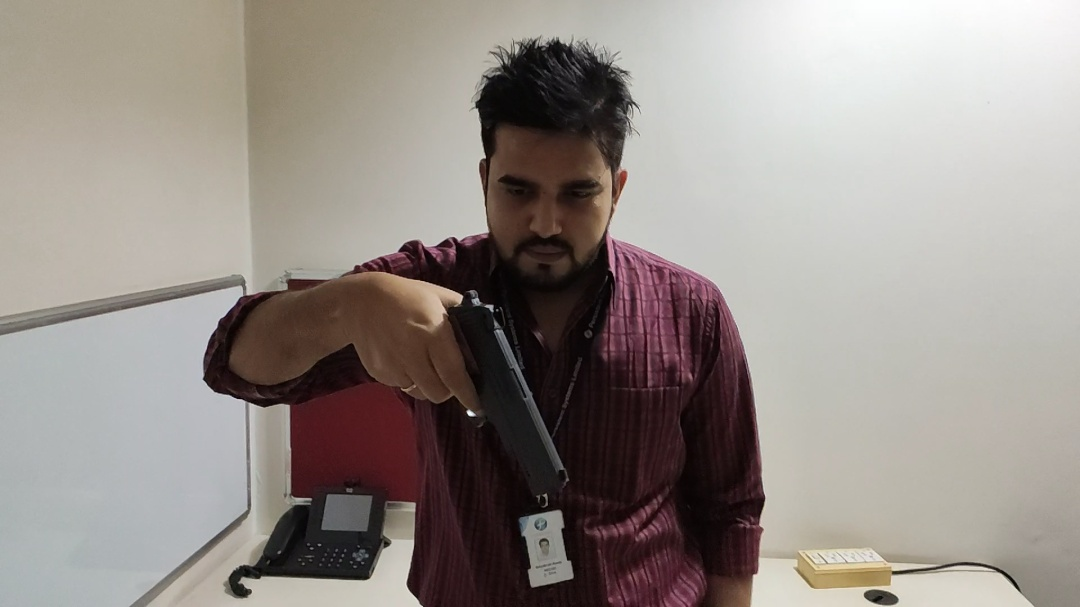gun: (379, 232, 418, 261)
